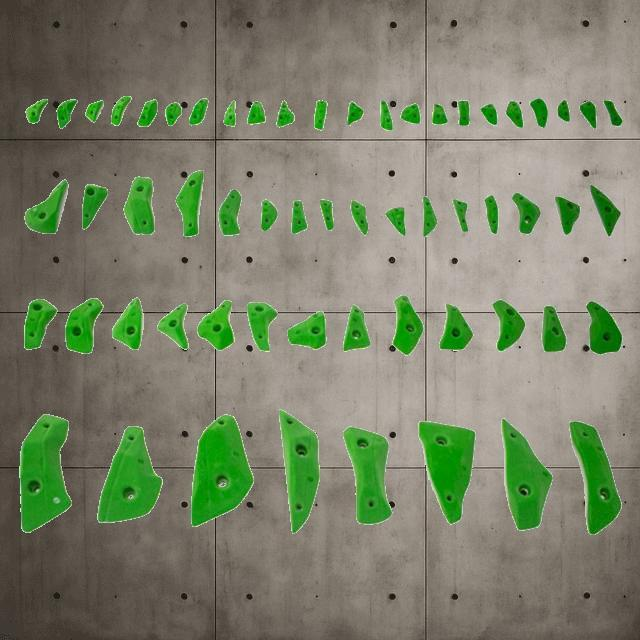Crimp: (190, 414, 254, 526), (18, 412, 72, 532), (97, 425, 161, 523), (568, 420, 622, 534), (417, 420, 475, 524), (500, 418, 552, 530), (278, 408, 320, 534), (342, 426, 392, 524), (24, 178, 68, 234), (64, 297, 102, 353), (174, 168, 203, 236), (585, 300, 621, 354), (198, 300, 235, 350), (392, 297, 423, 355), (124, 176, 154, 234), (590, 184, 622, 236), (24, 297, 56, 348), (112, 298, 144, 349), (493, 301, 525, 351), (246, 302, 278, 351), (288, 310, 326, 350), (440, 304, 472, 350), (342, 304, 372, 352), (157, 304, 189, 348), (542, 306, 568, 352), (513, 193, 541, 234), (82, 184, 108, 228), (218, 188, 240, 236), (555, 197, 581, 236), (422, 195, 438, 237), (484, 194, 500, 234), (56, 100, 78, 128), (111, 96, 131, 124), (386, 208, 406, 236), (26, 99, 48, 123), (352, 200, 368, 233), (292, 200, 308, 233), (138, 100, 158, 126), (261, 200, 277, 232), (453, 200, 469, 232), (580, 101, 598, 127), (604, 100, 622, 126), (530, 100, 548, 126), (320, 200, 334, 232), (86, 100, 104, 124), (190, 100, 208, 124), (506, 102, 524, 126), (278, 101, 294, 127), (248, 102, 266, 125), (402, 104, 421, 125), (165, 102, 181, 126), (347, 102, 363, 126), (381, 101, 394, 129), (481, 104, 497, 125), (432, 104, 448, 125), (224, 100, 236, 126), (314, 102, 326, 128), (458, 102, 470, 125), (558, 100, 570, 122)
